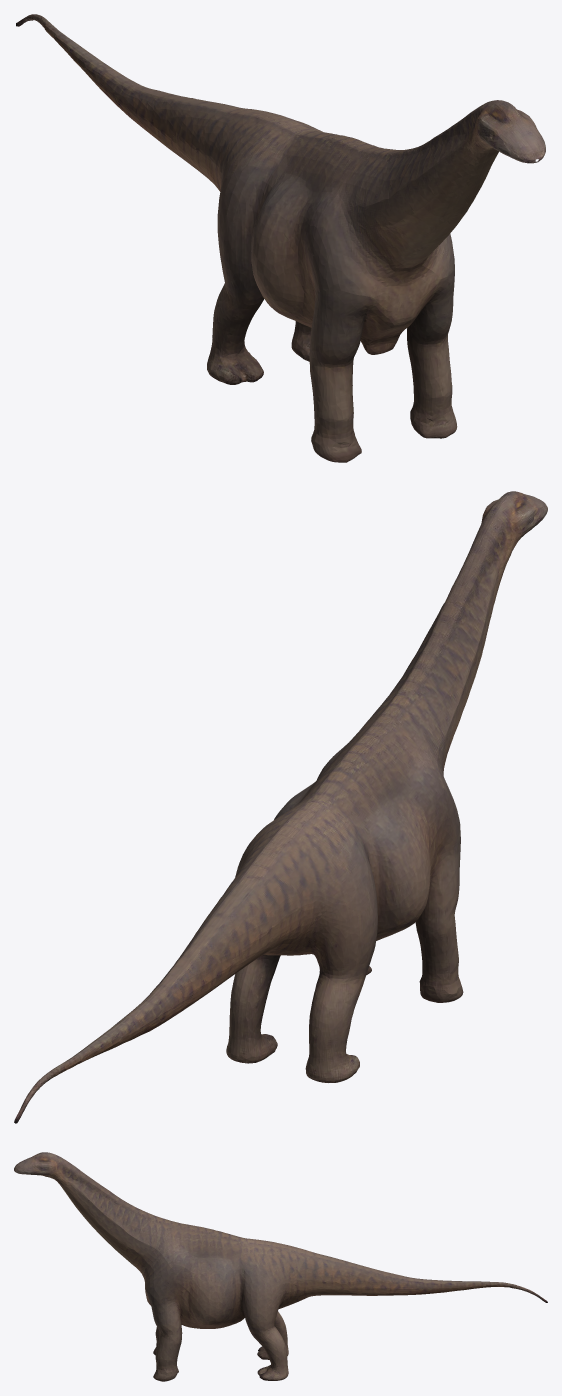
The picture shows the model from 3 angles, top to bottom: view 1: azimuth 30°, elevation 25°; view 2: azimuth 150°, elevation 25°; view 3: azimuth 270°, elevation 25°; orthographic projection. The views are drawn at different scales.
Parts seen in each view (by area): view 1: world; view 2: world; view 3: world.
Part boxes in pixels (<box>): world: <box>16,14,545,462</box>; world: <box>14,491,547,1123</box>; world: <box>14,1152,547,1381</box>.
Size of the model in its own units: 4.75 by 12.39 by 28.
Materials: 2 (2 with a texture image).
